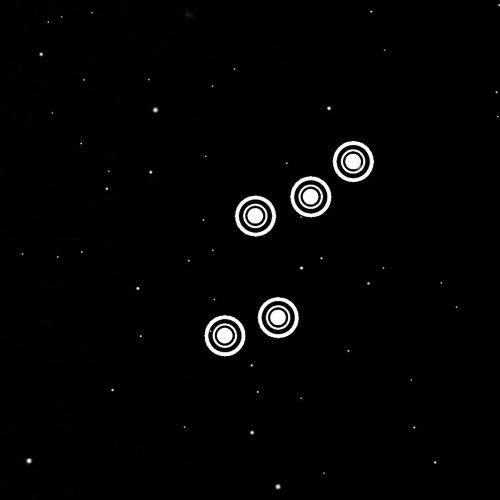lyra: (189, 121, 383, 370)
